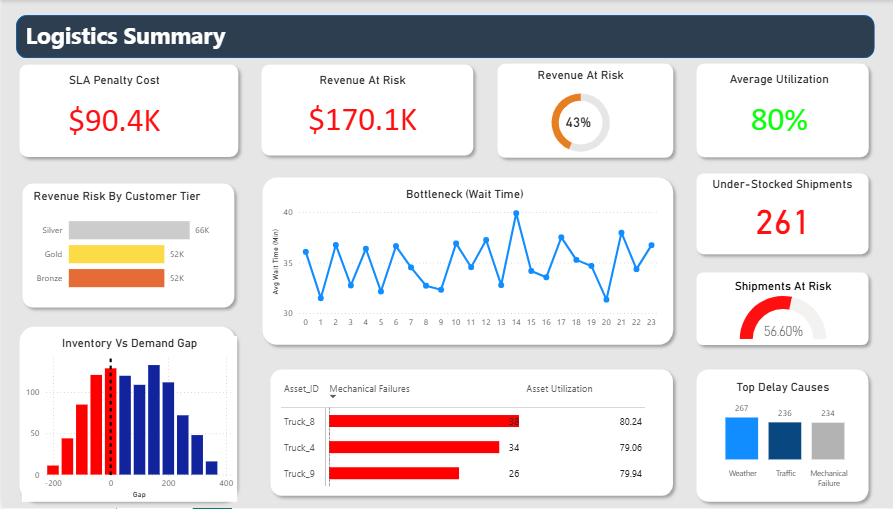

The page's visual inventory and layout, read from the dashboard file:
{"tool":"powerbi","page":{"name":"Page 1","canvas":[1280,720],"ordinal":0},"visuals":[{"type":"shape","box":[32.6,14.2,1217.5,62.4],"z":0},{"type":"shape","box":[28.2,76.6,328.3,149.2],"z":0,"group":"g7"},{"type":"shape","box":[33.1,231.2,318.9,208.3],"z":0,"group":"g4"},{"type":"card","title":"SLA Penalty Cost","fields":{"Values":["smart_logistics_dataset.Penalty_Cost"]},"box":[61.4,98.2,222.2,106.1],"z":1000,"group":"g7"},{"type":"group","id":"g1","title":"Group 1","box":[28.4,447.8,325,265.3],"z":1000},{"type":"group","id":"g2","title":"Group 1","box":[705.8,75,267.3,152],"z":2000,"group":"g6"},{"type":"group","id":"g3","title":"Group 1","box":[372,76.6,318.3,149.2],"z":2000},{"type":"barChart","title":"Revenue Risk By Customer Tier","fields":{"Category":["smart_logistics_dataset.Customer_Segment"],"Y":["smart_logistics_dataset.Total_Revenue_Delayed_Transactions"]},"box":[53.2,248.8,260.8,171],"z":2000,"group":"g4"},{"type":"shape","box":[988.2,508.5,262,205.6],"z":3000},{"type":"columnChart","title":"Top Delay Causes","fields":{"Category":["smart_logistics_dataset.Logistics_Delay_Reason"],"Y":["CountNonNull(smart_logistics_dataset.Asset_ID)"]},"box":[1001.1,533.1,238.1,161.6],"z":4000},{"type":"textbox","box":[41.1,14.2,737,62.4],"z":5000},{"type":"clusteredColumnChart","title":"Inventory Vs Demand Gap","fields":{"Category":["smart_logistics_dataset.Planning Gap (bins)"],"Y":["CountNonNull(smart_logistics_dataset.Asset_ID)"]},"box":[41.6,470.8,293.4,223.9],"z":6000},{"type":"group","id":"g4","title":"Group 3","box":[33.1,231.2,318.9,208.3],"z":7000},{"type":"shape","box":[28.4,447.8,325,265.3],"z":7500,"group":"g1"},{"type":"shape","box":[373.3,231.2,599.5,260.8],"z":8000},{"type":"shape","box":[705.8,75,267.3,152],"z":9000,"group":"g2"},{"type":"shape","box":[988.2,75,262.3,151.1],"z":9000,"group":"g5"},{"type":"shape","box":[372,76.6,318.3,147.1],"z":9000,"group":"g3"},{"type":"lineChart","title":"Bottleneck (Wait Time)","fields":{"Category":["smart_logistics_dataset.Hour of Day"],"Y":["Avg(smart_logistics_dataset.Waiting_Time)"]},"box":[389.8,245.2,557,235.3],"z":9000},{"type":"group","id":"g5","title":"Group 1","box":[988.2,75,263.6,152.5],"z":10000},{"type":"card","title":"Average Utilization","fields":{"Values":["smart_logistics_dataset.Average_Utilization"]},"box":[1013.3,96.6,202.2,105.8],"z":10000,"group":"g5"},{"type":"card","title":"Revenue At Risk","fields":{"Values":["smart_logistics_dataset.Revenue_At_Risk"]},"box":[402.4,97.6,245.3,103],"z":10000,"group":"g3"},{"type":"donutChart","title":"Revenue At Risk","fields":{"Y":["CountNonNull(smart_logistics_dataset.Asset_ID)"],"Category":["smart_logistics_dataset.Delivery_Status"]},"box":[723.5,98.5,223.9,119.1],"z":10000,"group":"g2"},{"type":"card","fields":{"Values":["smart_logistics_dataset.On_Time_Shipments%"]},"box":[807.1,145.3,59.5,45.4],"z":11000,"group":"g6"},{"type":"shape","box":[384.6,509,588.2,204.1],"z":11000},{"type":"shape","box":[988.2,370.9,262,121],"z":12000},{"type":"gauge","title":"Shipments At Risk","fields":{"Y":["smart_logistics_dataset.Shipments_At_Risk"]},"box":[1012.5,389.5,215.7,90.4],"z":13000},{"type":"pivotTable","fields":{"Values":["smart_logistics_dataset.Mechanical_Failure_Count","Avg(smart_logistics_dataset.Asset_Utilization)"],"Rows":["smart_logistics_dataset.Asset_ID"]},"box":[410,524.3,544.3,174.3],"z":14000},{"type":"group","id":"g6","title":"Group 2","box":[705.8,75,267.3,152],"z":15000},{"type":"group","id":"g7","title":"Group 5","box":[28.2,76.6,328.3,149.2],"z":16000},{"type":"shape","box":[988.2,231.6,262,132.6],"z":17000},{"type":"card","title":"Under-Stocked Shipments","fields":{"Values":["smart_logistics_dataset.Under-Stocked-Shipments"]},"box":[1013.1,244.9,213.9,97.8],"z":18000},{"type":"slicer","title":"Date","fields":{"Values":["smart_logistics_dataset.Timestamp"]},"box":[723.3,14.4,204.1,48.2],"z":19000},{"type":"textbox","box":[668.6,24.3,55.7,28.6],"z":20000},{"type":"slicer","fields":{"Values":["smart_logistics_dataset.Logistics_Delay_Reason"]},"box":[1001.1,14.4,202.7,48.2],"z":21000},{"type":"textbox","box":[937.1,24.3,65.7,28.6],"z":22000}]}

Visuals, with their boxes in screenshot pixels (x1, y1, x2, y2), scaled from the page's 1280x720 canvas onto the 893x509 screenshot:
shape: rect(23, 10, 872, 54)
shape: rect(20, 54, 249, 160)
shape: rect(23, 163, 246, 311)
"SLA Penalty Cost" card: rect(43, 69, 198, 144)
"Group 1" group: rect(20, 317, 247, 504)
"Group 1" group: rect(492, 53, 679, 160)
"Group 1" group: rect(260, 54, 482, 160)
"Revenue Risk By Customer Tier" barChart: rect(37, 176, 219, 297)
shape: rect(689, 359, 872, 505)
"Top Delay Causes" columnChart: rect(698, 377, 865, 491)
textbox: rect(29, 10, 543, 54)
"Inventory Vs Demand Gap" clusteredColumnChart: rect(29, 333, 234, 491)
"Group 3" group: rect(23, 163, 246, 311)
shape: rect(20, 317, 247, 504)
shape: rect(260, 163, 679, 348)
shape: rect(492, 53, 679, 160)
shape: rect(689, 53, 872, 160)
shape: rect(260, 54, 482, 158)
"Bottleneck (Wait Time)" lineChart: rect(272, 173, 661, 340)
"Group 1" group: rect(689, 53, 873, 161)
"Average Utilization" card: rect(707, 68, 848, 143)
"Revenue At Risk" card: rect(281, 69, 452, 142)
"Revenue At Risk" donutChart: rect(505, 70, 661, 154)
card - smart_logistics_dataset.On_Time_Shipments%: rect(563, 103, 605, 135)
shape: rect(268, 360, 679, 504)
shape: rect(689, 262, 872, 348)
"Shipments At Risk" gauge: rect(706, 275, 857, 339)
pivotTable - smart_logistics_dataset.Mechanical_Failure_Count x Avg(smart_logistics_dataset.Asset_Utilization): rect(286, 371, 666, 494)
"Group 2" group: rect(492, 53, 679, 160)
"Group 5" group: rect(20, 54, 249, 160)
shape: rect(689, 164, 872, 257)
"Under-Stocked Shipments" card: rect(707, 173, 856, 242)
"Date" slicer: rect(505, 10, 647, 44)
textbox: rect(466, 17, 505, 37)
slicer - smart_logistics_dataset.Logistics_Delay_Reason: rect(698, 10, 840, 44)
textbox: rect(654, 17, 700, 37)
